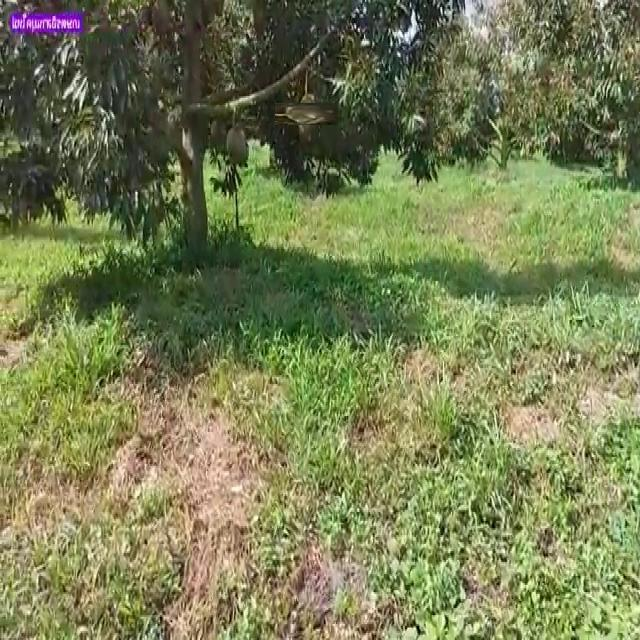durian: (285, 93, 328, 136), (224, 120, 252, 170)
